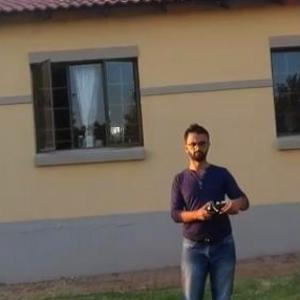follow: (162, 120, 252, 299)
